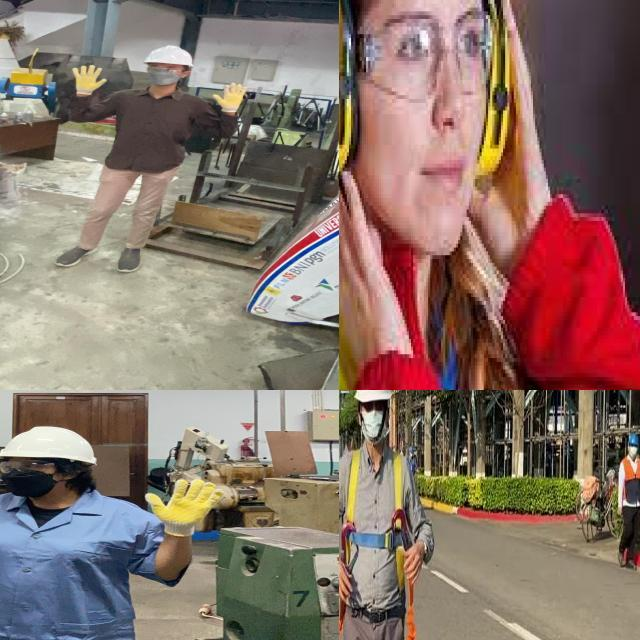Ear-protection: (339, 0, 506, 176)
Harness: (342, 450, 417, 640)
face_mask: (0, 457, 64, 499), (146, 63, 182, 87)
glasses: (0, 460, 65, 474), (143, 65, 188, 73)
hand_glove: (140, 475, 229, 531), (207, 80, 249, 110), (68, 64, 111, 92)
head_helmet: (0, 423, 104, 463), (143, 45, 195, 67)
person: (49, 42, 256, 273), (0, 425, 221, 640)
shoes: (50, 242, 101, 268), (112, 243, 146, 274)
